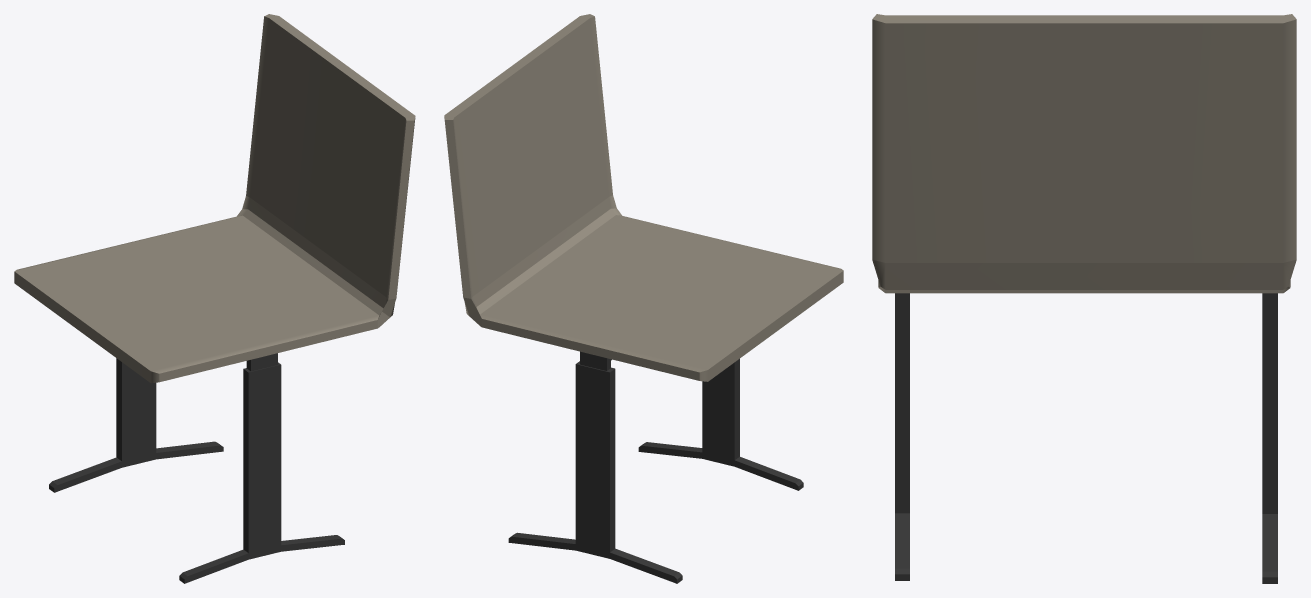
The model's file is Chair_01.fbx.
3 renders of one model, left to right at view 1: azimuth 30°, elevation 25°; view 2: azimuth 150°, elevation 25°; view 3: azimuth 270°, elevation 25°, orthographic. The views are drawn at different scales.
Visible parts, largest first — view 1: polySurface5; view 2: polySurface5; view 3: polySurface5.
Part boxes in pixels (x1,y1,x2,y2): polySurface5: (14, 14, 415, 583); polySurface5: (444, 14, 843, 583); polySurface5: (872, 14, 1296, 583).
Bounding box in the file's own units: 119 × 178 × 113.
